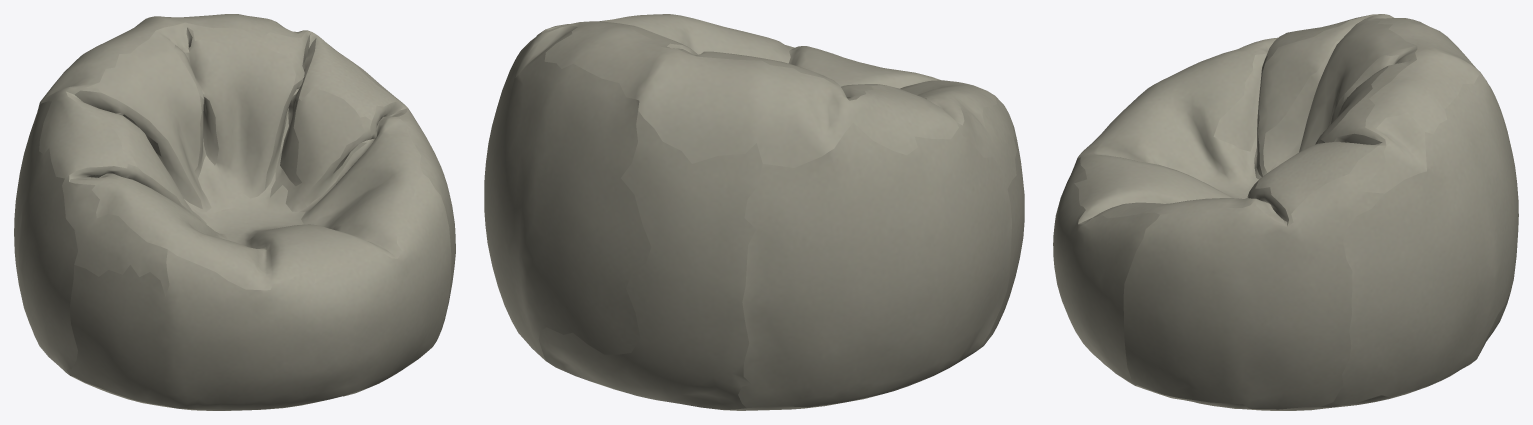
Rendered from beanbag2.glb.
The picture shows the model from 3 angles, left to right: view 1: azimuth 30°, elevation 25°; view 2: azimuth 150°, elevation 25°; view 3: azimuth 270°, elevation 25°; orthographic projection. The views are drawn at different scales.
Parts seen in each view (by area): view 1: world; view 2: world; view 3: world.
Boxes of the visible parts, <box> form: world: <box>14,14,455,410</box>; world: <box>484,14,1024,410</box>; world: <box>1053,14,1518,410</box>.
Size of the model in its own units: 0.9 by 0.5898 by 0.8996.
1 material, 1 textured.
